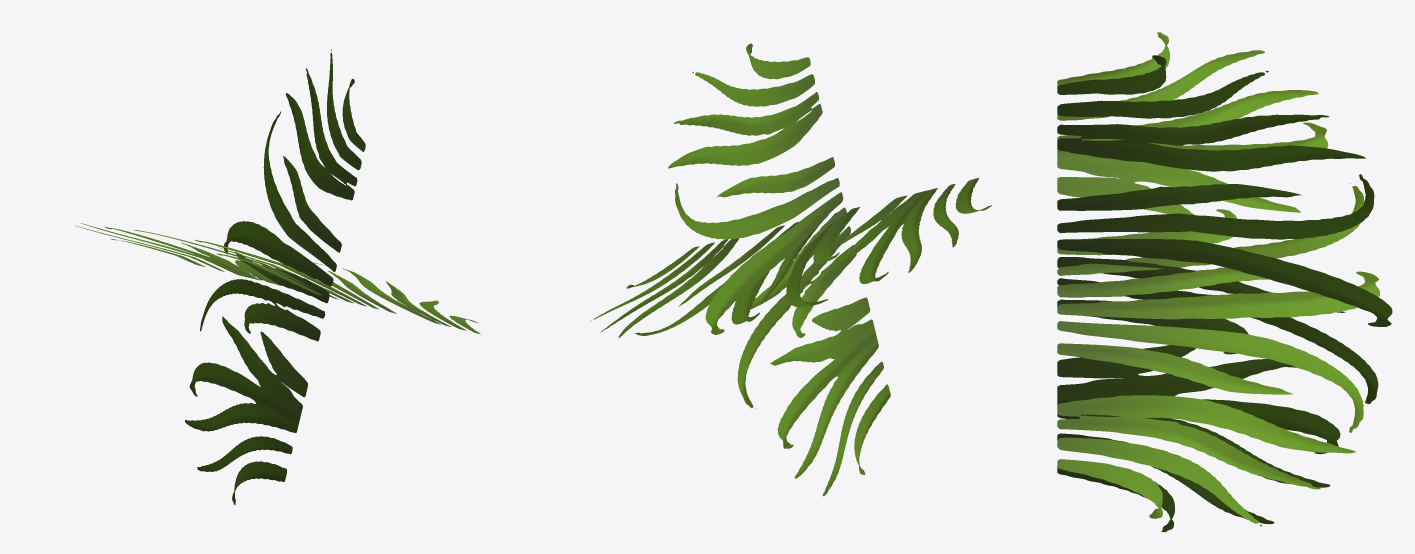
The model's file is Grass1.FBX.
3 views of the same model, side by side, from view 1: azimuth 30°, elevation 25°; view 2: azimuth 150°, elevation 25°; view 3: azimuth 270°, elevation 25° (orthographic). The views are drawn at different scales.
Visible parts, largest first — view 1: Grass1; view 2: Grass1; view 3: Grass1.
Part boxes in pixels (x1=…): Grass1: x1=75, y1=49, x2=480, y2=505; Grass1: x1=590, y1=43, x2=991, y2=496; Grass1: x1=1057, y1=32, x2=1392, y2=532.
Size of the model in its own units: 0.9927 by 1.01 by 0.5493.
